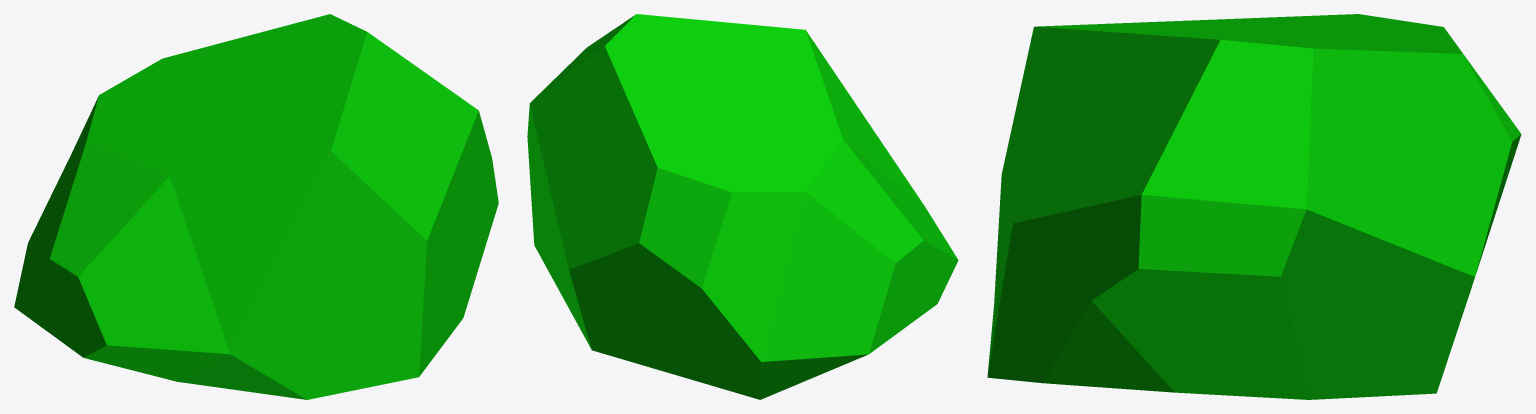
The model's file is Rock_01.fbx.
3 views of the same model, side by side, from view 1: azimuth 30°, elevation 25°; view 2: azimuth 150°, elevation 25°; view 3: azimuth 270°, elevation 25° (orthographic). The views are drawn at different scales.
Parts seen in each view (by area): view 1: Rock_01; view 2: Rock_01; view 3: Rock_01.
Part boxes in pixels (bbox=[...]): Rock_01: bbox=[14, 14, 498, 399]; Rock_01: bbox=[527, 14, 958, 399]; Rock_01: bbox=[987, 14, 1521, 399].
Bounding box in the file's own units: 209 × 144 × 186.
